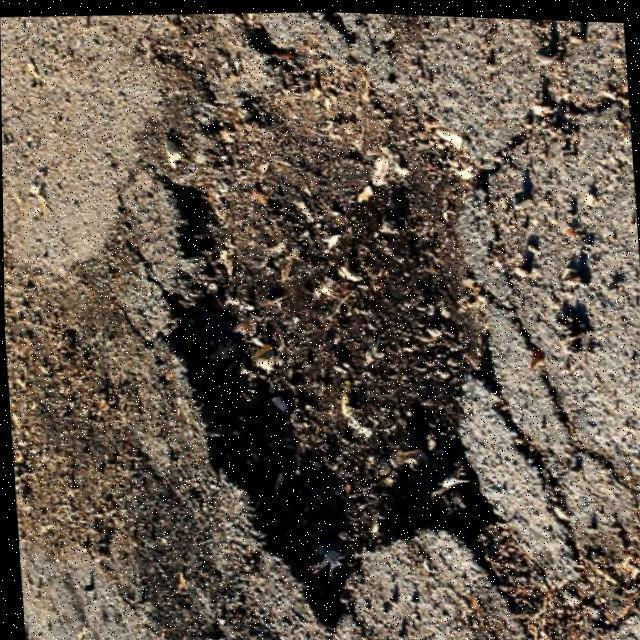Pothole: (139, 13, 553, 639)
